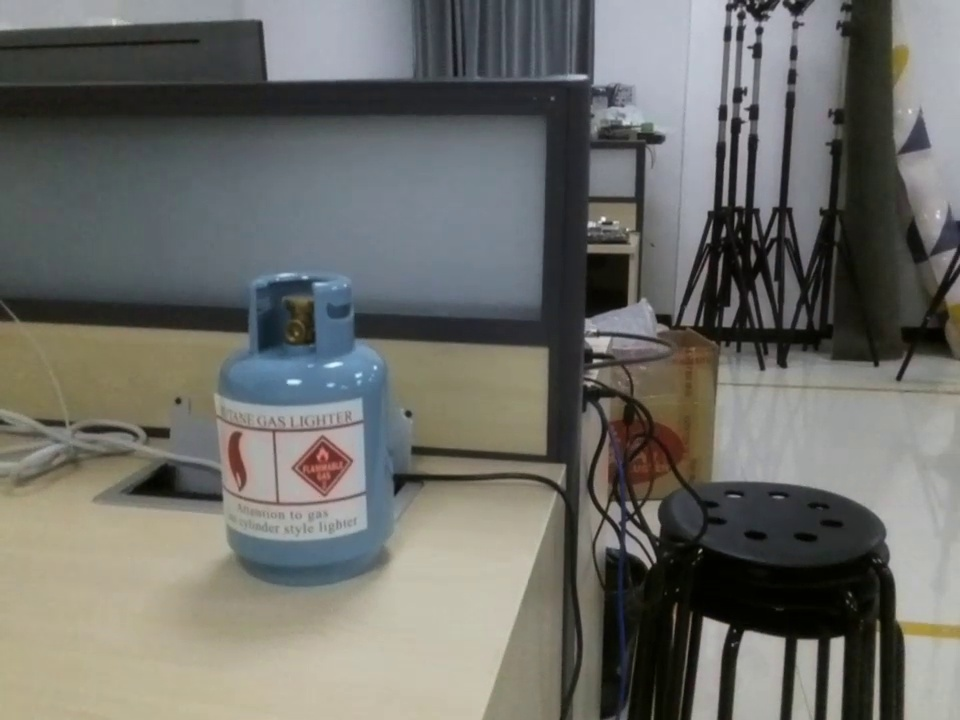gas tank: (213, 264, 405, 590)
